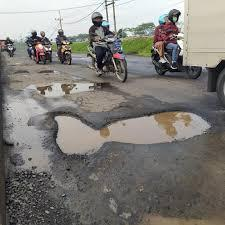Pothole: (36, 107, 223, 163), (80, 174, 225, 225), (24, 79, 136, 97), (4, 58, 73, 76), (0, 115, 19, 177)
